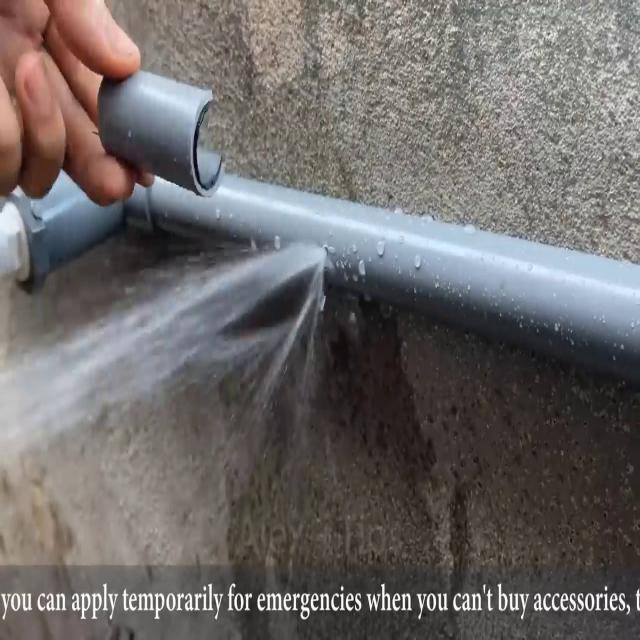leak: (0, 242, 327, 471)
